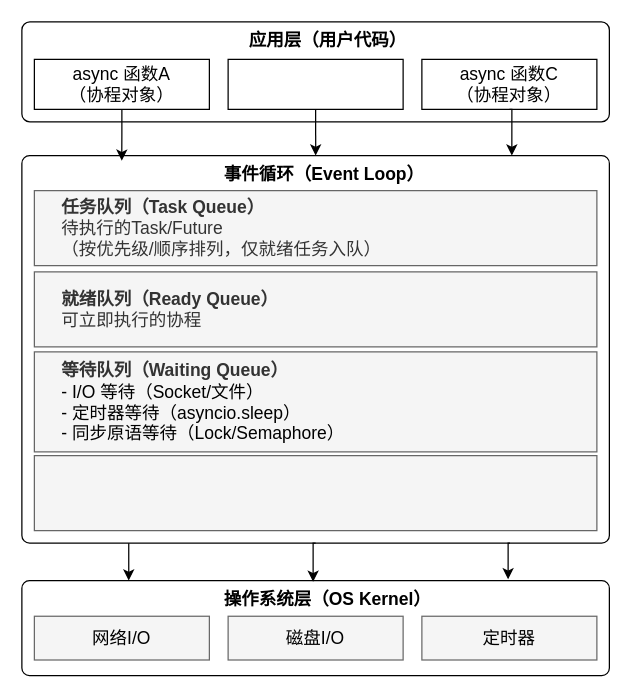
Some shapes in this 631 by 698 pixel diagram are drawn without their labels. Each missing label, with the centre of its shape:
async 函数B （协程对象）: [315,83]
底层驱动 - 事件通知系统（Linux:epoll, Windows:IOCP, macOS: kqueue） - 定时器管理器: [315,492]
